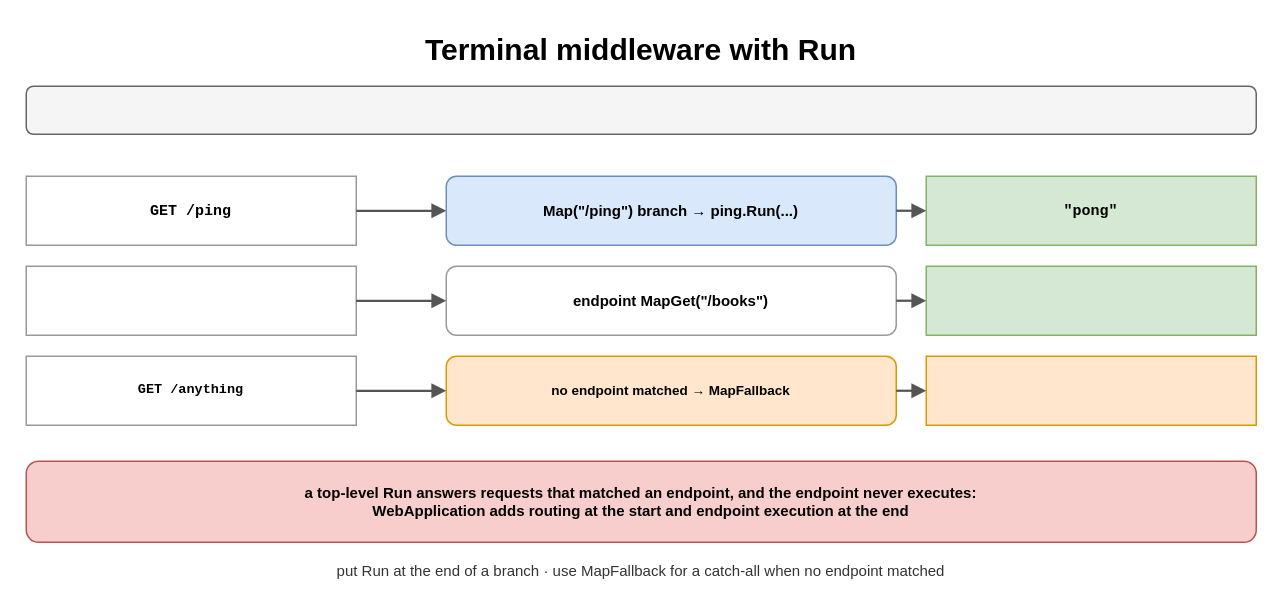
Image size: 1283x612. Some labels were removed from this diagram. The centre of each missing label's shape, as x and y in pixels:
404 "Nothing at /anything": (1090,390)
["Atlas"]: (1090,300)
GET /books: (190,300)
Run ends the pipeline; nothing after it executes: (640,109)
